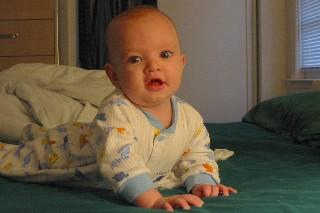without_mask: (94, 6, 198, 120)
